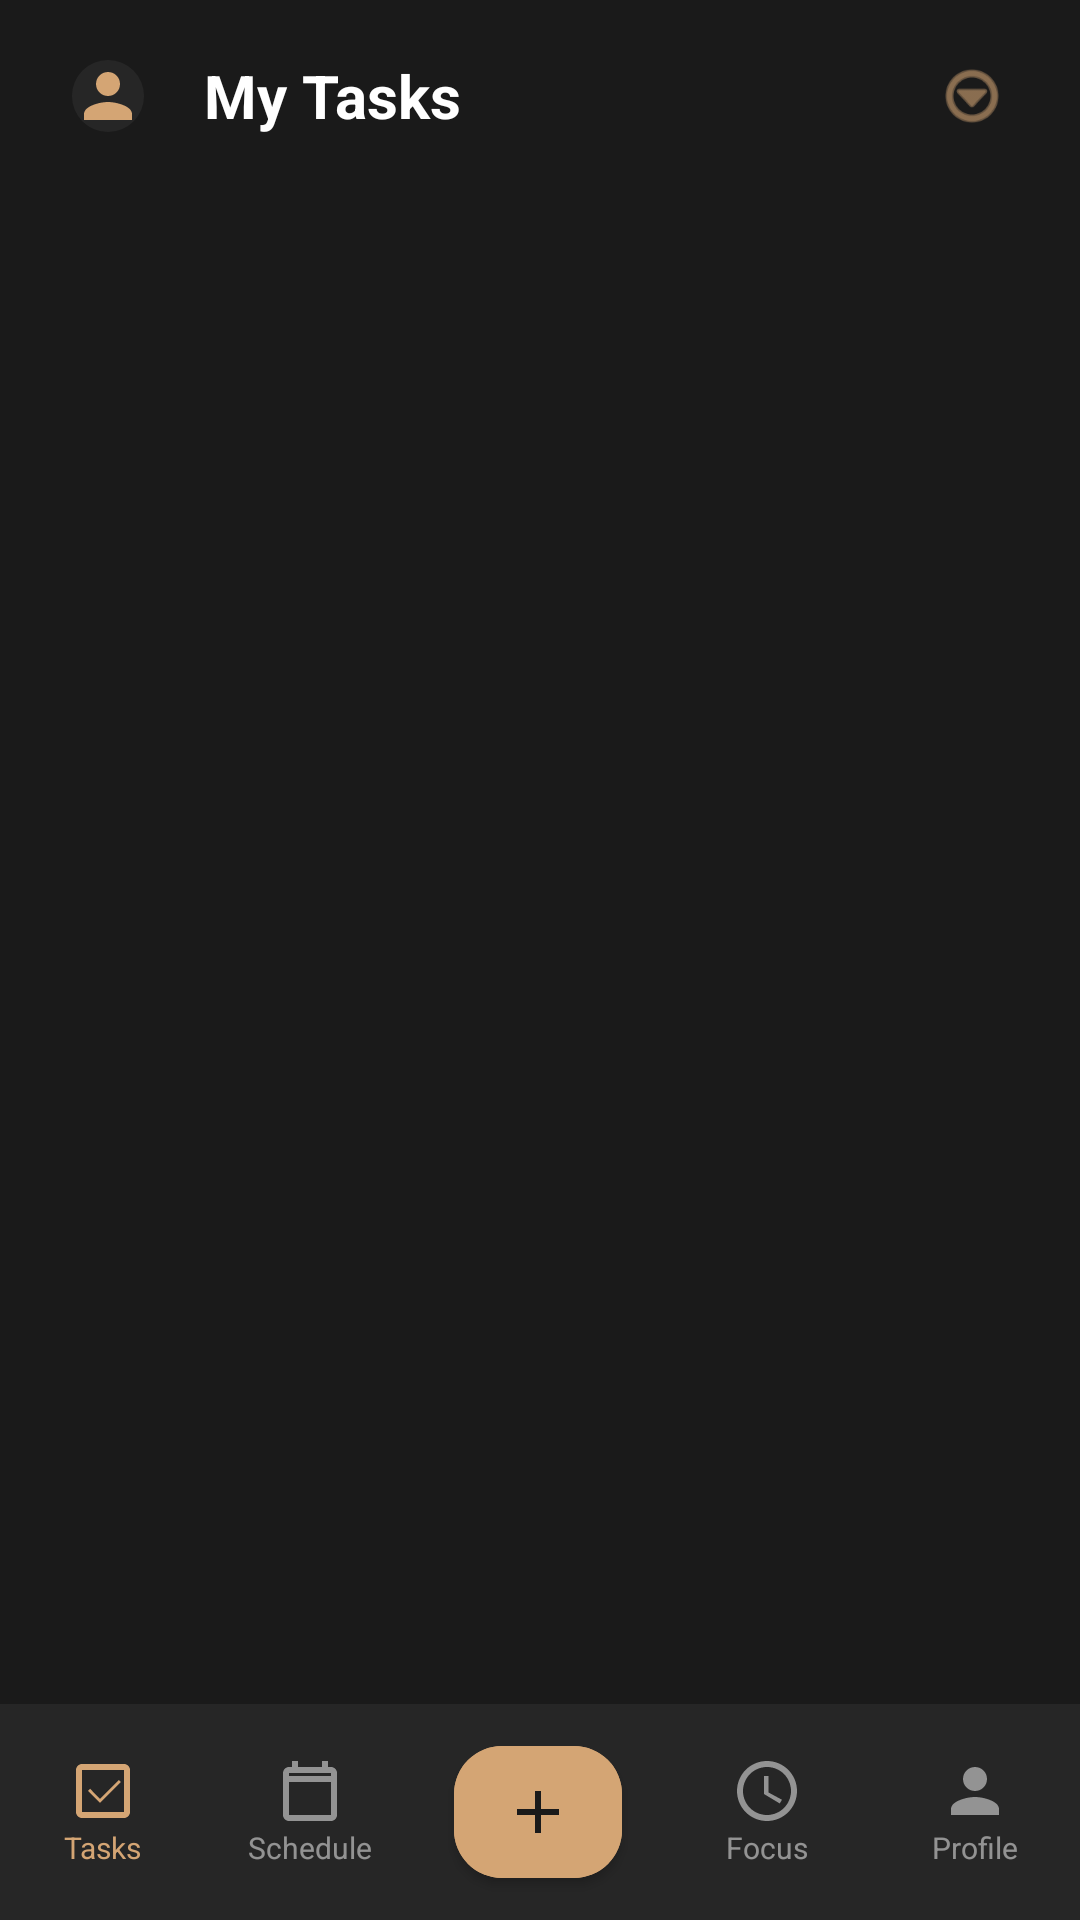

Where to tap for icons on this 1080 × 1920 app screen, as point (x, y):
add task: point (538, 1812)
more: point (972, 96)
